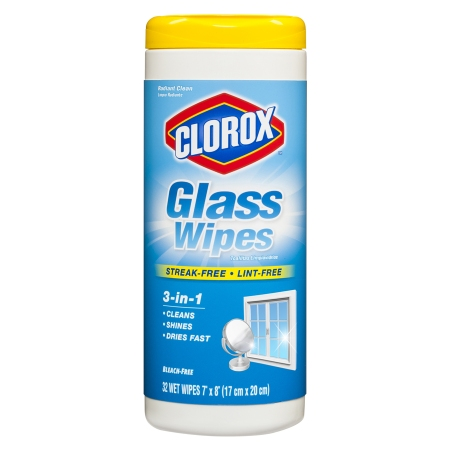Wipes: (138, 11, 310, 439)
